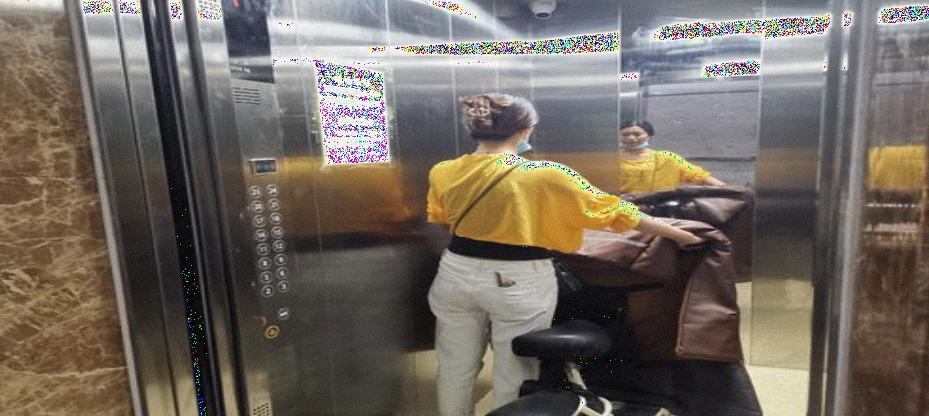ebike: (514, 198, 746, 412)
person: (424, 88, 704, 410), (622, 114, 742, 189)
